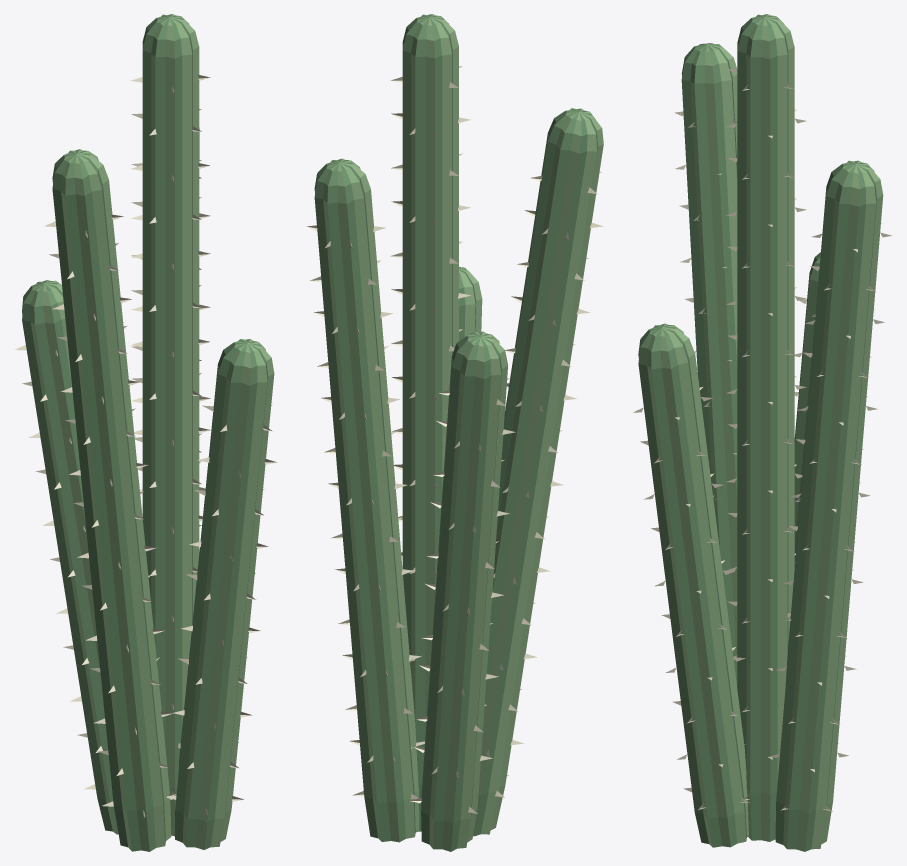
The model's file is cactus-organ-a.glb.
3 renders of one model, left to right at view 1: azimuth 30°, elevation 25°; view 2: azimuth 150°, elevation 25°; view 3: azimuth 270°, elevation 25°, orthographic.
Parts seen in each view (by area): view 1: cactus-organ-a; view 2: cactus-organ-a; view 3: cactus-organ-a.
Part boxes in pixels (<box>): cactus-organ-a: <box>15,14,277,851</box>; cactus-organ-a: <box>306,14,603,851</box>; cactus-organ-a: <box>633,14,891,851</box>.
Bounding box in the file's own units: 0.5792 × 1.99 × 0.5742.
